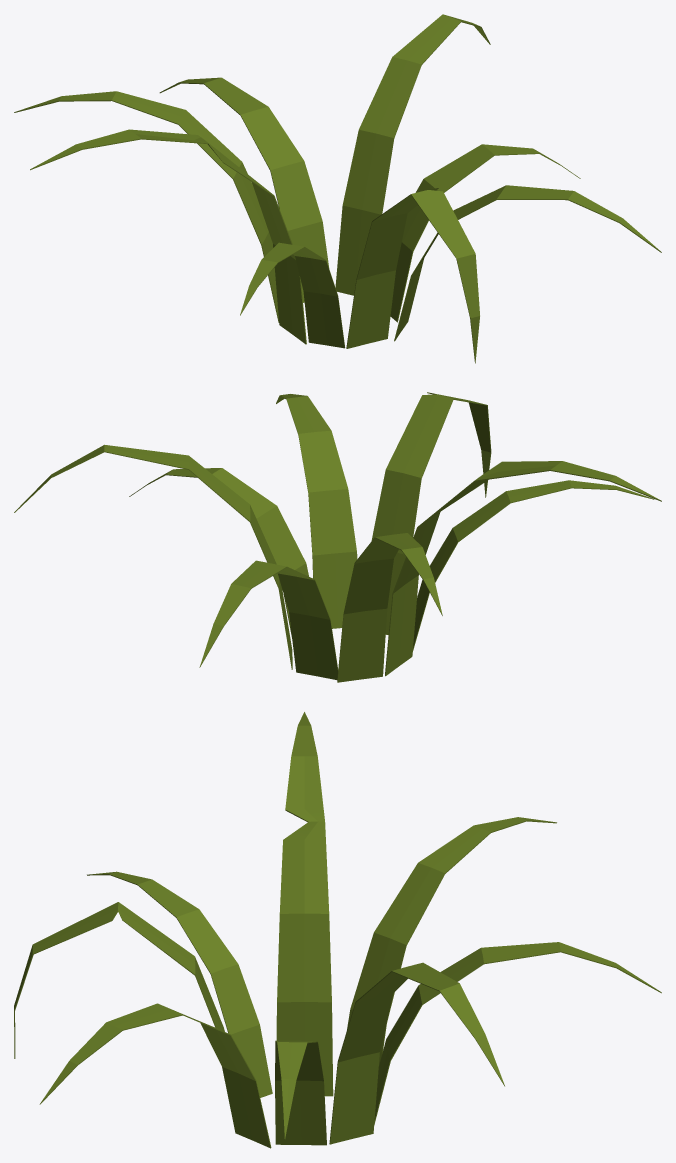
Rendered from PlantGreen01.fbx.
The picture shows the model from 3 angles, top to bottom: view 1: azimuth 30°, elevation 25°; view 2: azimuth 150°, elevation 25°; view 3: azimuth 270°, elevation 25°; orthographic projection. The views are drawn at different scales.
Visible parts, largest first — view 1: pPlane40; view 2: pPlane40; view 3: pPlane40.
Part boxes in pixels (box(x1,y1,x2,y2)): pPlane40: box(14, 14, 661, 363); pPlane40: box(14, 392, 661, 682); pPlane40: box(14, 712, 661, 1148).
Size of the model in its own units: 1.31 by 0.5452 by 1.24.
